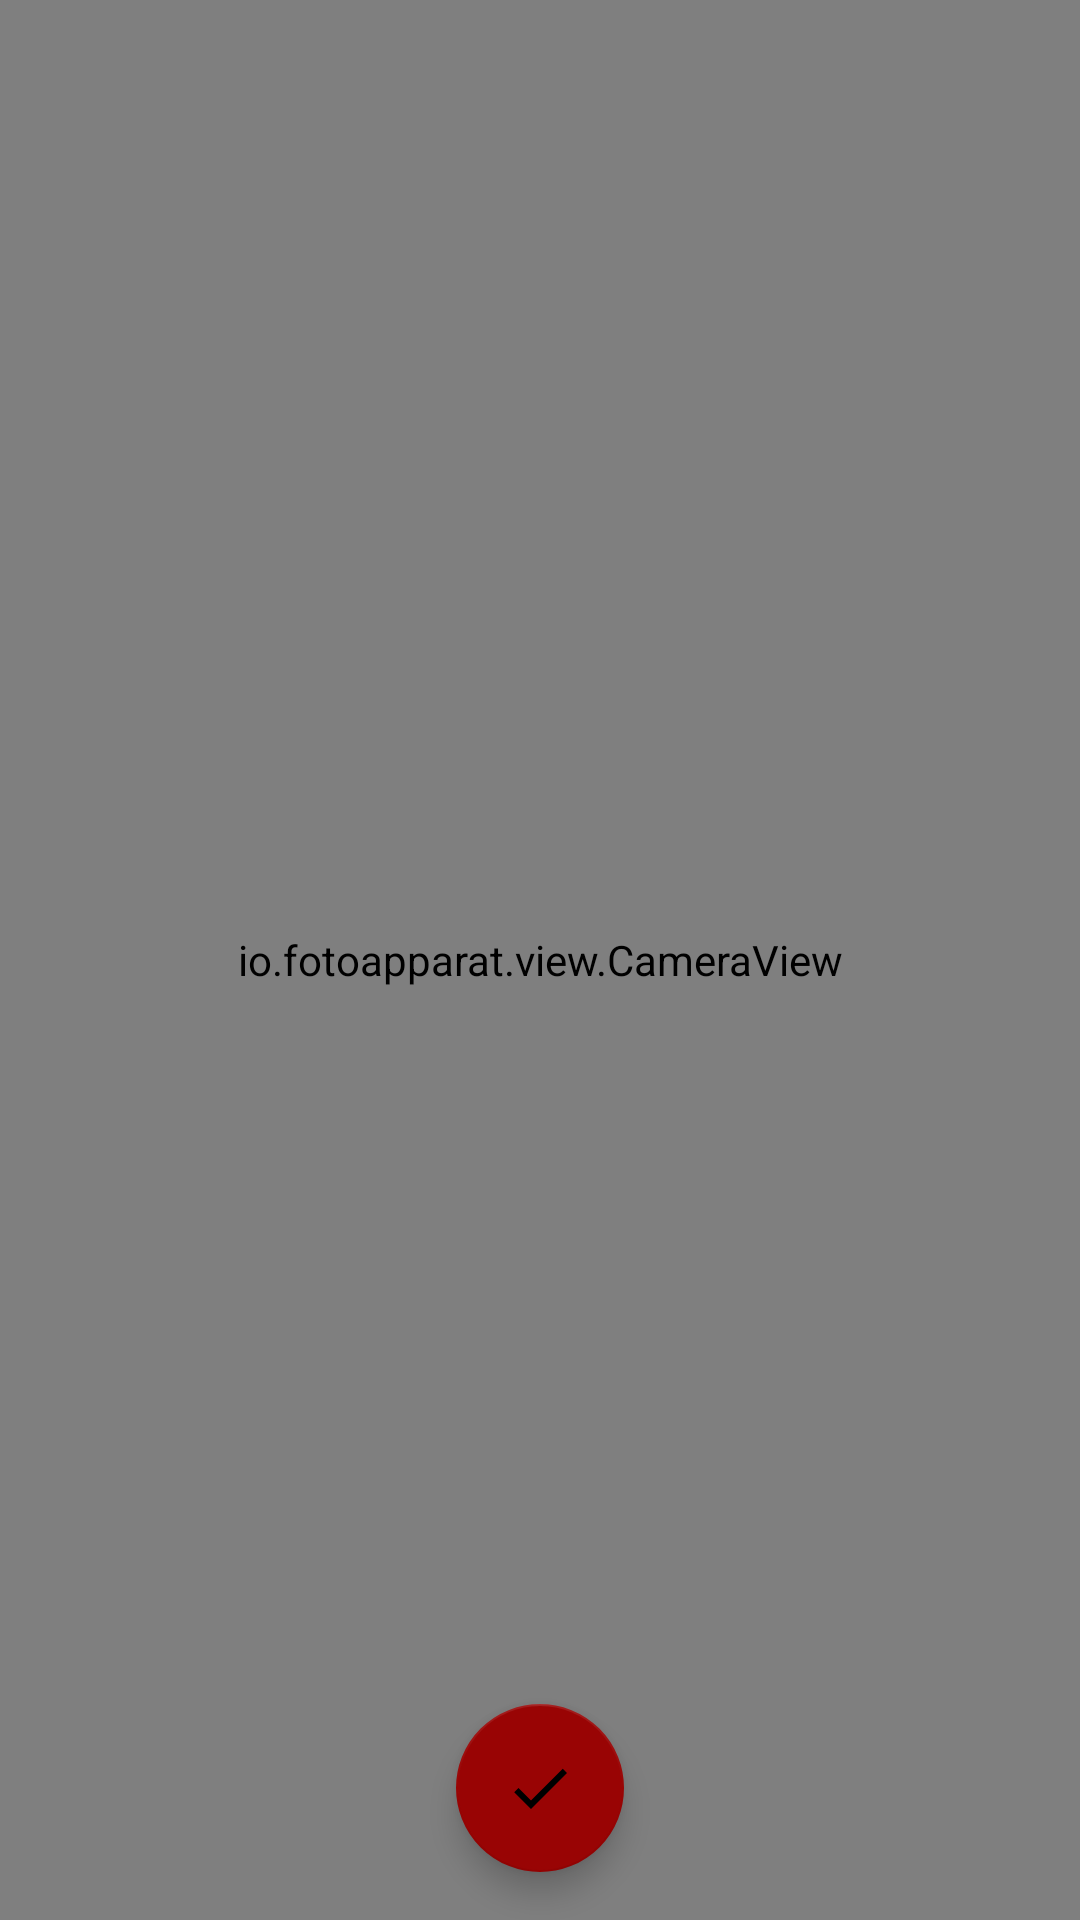

Screen size 1080px×1920px. Icon name, then its box in pixels as (x1, y1, x2, y2):
check: (456, 1704, 624, 1872)
